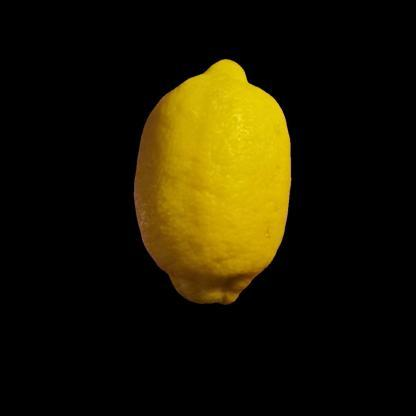lemon: (133, 57, 292, 305)
